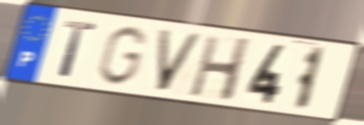1: (296, 44, 328, 114)
4: (244, 42, 287, 106)
G: (94, 24, 150, 88)
H: (187, 34, 254, 104)
T: (57, 18, 98, 81)
V: (155, 27, 206, 94)
